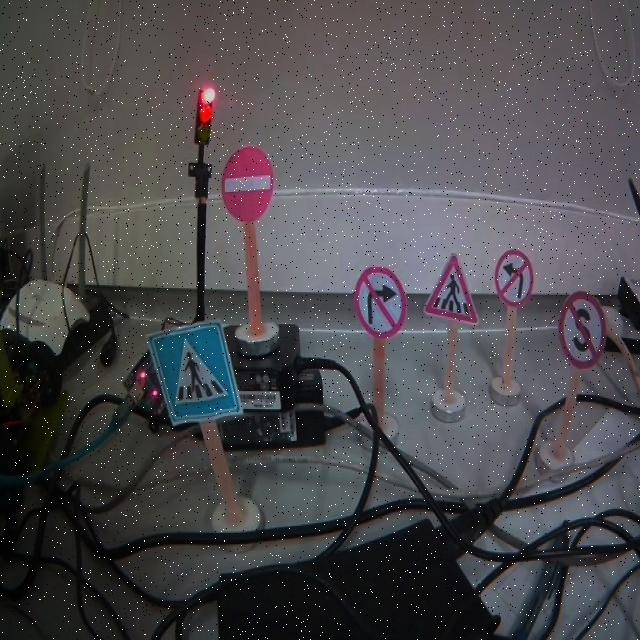Dilarang Belok Kanan: (353, 266, 407, 338)
Dilarang Belok Kiri: (495, 249, 534, 305)
Dilarang Masuk: (221, 146, 274, 221)
Lampu Merah: (194, 89, 214, 145)
Rambu Berhenti: (558, 290, 606, 368)
Rambu Penyebrangan: (148, 319, 242, 424), (424, 255, 480, 324)
